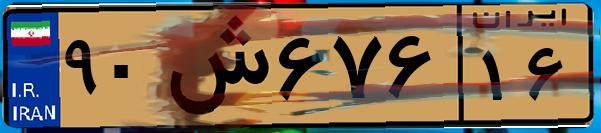0: (110, 28, 158, 98)
1: (475, 38, 525, 113)
6: (270, 28, 330, 110), (385, 28, 445, 110), (525, 38, 570, 115)
7: (330, 28, 385, 110)
9: (57, 26, 110, 100)
ش: (158, 12, 270, 120)
